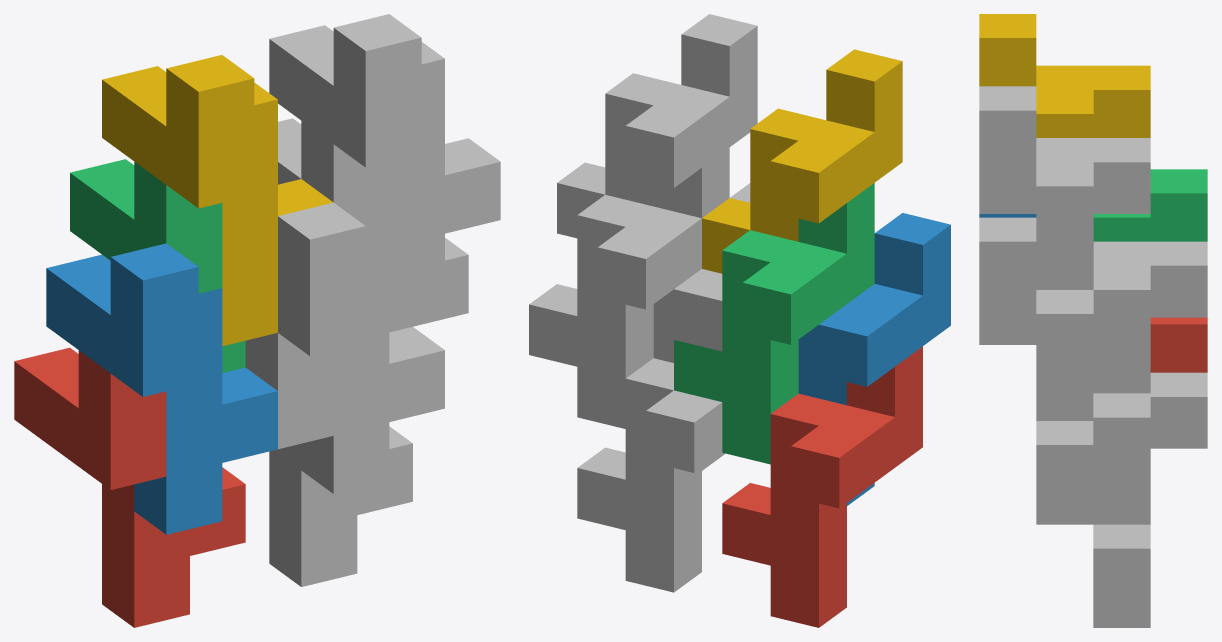
The model's file is tiling.obj.
3 renders of one model, left to right at view 1: azimuth 30°, elevation 25°; view 2: azimuth 150°, elevation 25°; view 3: azimuth 270°, elevation 25°, orthographic. The views are drawn at different scales.
Visible parts, largest first — view 1: copy_1_domain_2, copy_1_domain_8, copy_1_domain_4, copy_1_domain_6, copy_1_domain_1, copy_1_domain_5, copy_1_domain_3, copy_1_domain_7; view 2: copy_1_domain_1, copy_1_domain_3, copy_1_domain_7, copy_1_domain_4, copy_1_domain_8, copy_1_domain_5, copy_1_domain_2, copy_1_domain_6; view 3: copy_1_domain_8, copy_1_domain_7, copy_1_domain_6, copy_1_domain_4, copy_1_domain_5, copy_1_domain_3, copy_1_domain_1.
Part boxes in pixels (x1,y1,x2,y2): copy_1_domain_2: (46,243,277,534); copy_1_domain_8: (269,14,500,305); copy_1_domain_4: (102,55,333,346); copy_1_domain_6: (278,202,444,493); copy_1_domain_1: (14,347,245,627); copy_1_domain_5: (245,333,412,586); copy_1_domain_3: (70,159,245,372); copy_1_domain_7: (278,118,468,332); copy_1_domain_1: (722,346,922,627); copy_1_domain_3: (674,183,874,464); copy_1_domain_7: (529,147,729,428); copy_1_domain_4: (702,49,902,273); copy_1_domain_8: (557,14,757,238); copy_1_domain_5: (577,358,722,592); copy_1_domain_2: (798,213,950,505); copy_1_domain_6: (653,183,750,470); copy_1_domain_8: (979,86,1150,393); copy_1_domain_7: (1093,241,1207,496); copy_1_domain_6: (979,217,1093,524); copy_1_domain_4: (979,14,1150,137); copy_1_domain_5: (1093,372,1207,627); copy_1_domain_3: (1093,169,1207,241); copy_1_domain_1: (1150,317,1207,372).
Size of the model in its own units: 7 by 10 by 4.
